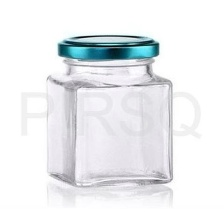bottle: (44, 27, 185, 196)
